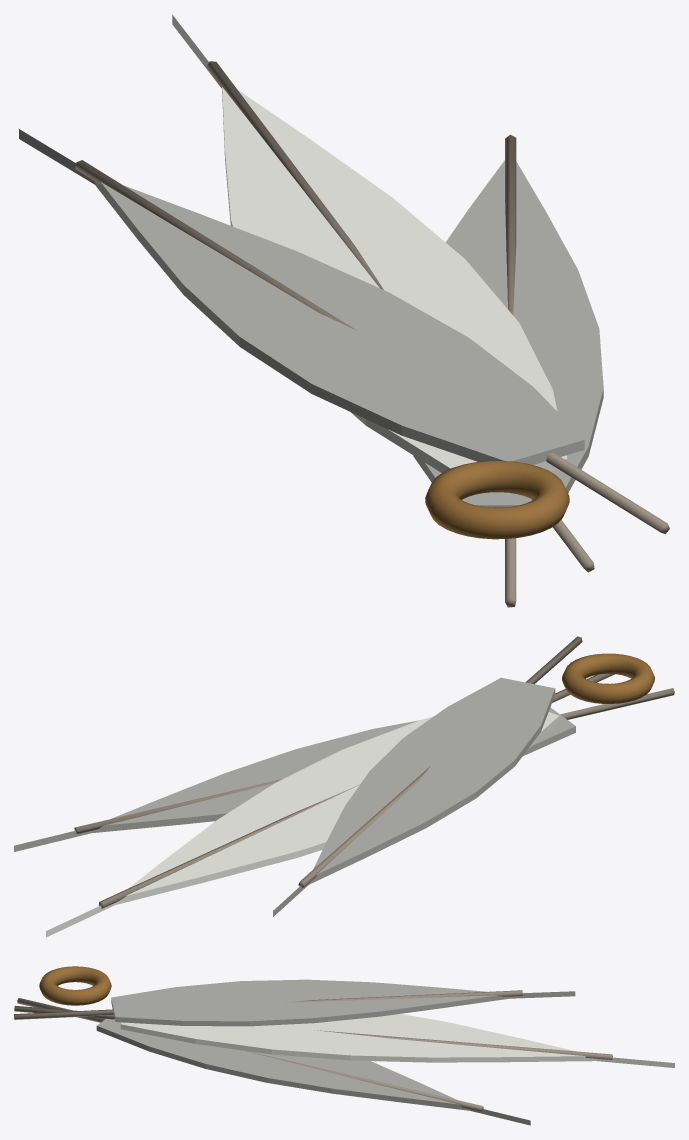
The model's file is federn.glb.
3 renders of one model, top to bottom at view 1: azimuth 30°, elevation 25°; view 2: azimuth 150°, elevation 25°; view 3: azimuth 270°, elevation 25°, orthographic. The views are drawn at different scales.
Visible parts, largest first — view 1: f; view 2: f; view 3: f.
Boxes of the visible parts, <box> form: f: <box>19,15,669,607</box>; f: <box>14,636,674,937</box>; f: <box>14,966,674,1125</box>.
Size of the model in its own units: 0.11 by 0.014 by 0.237.
